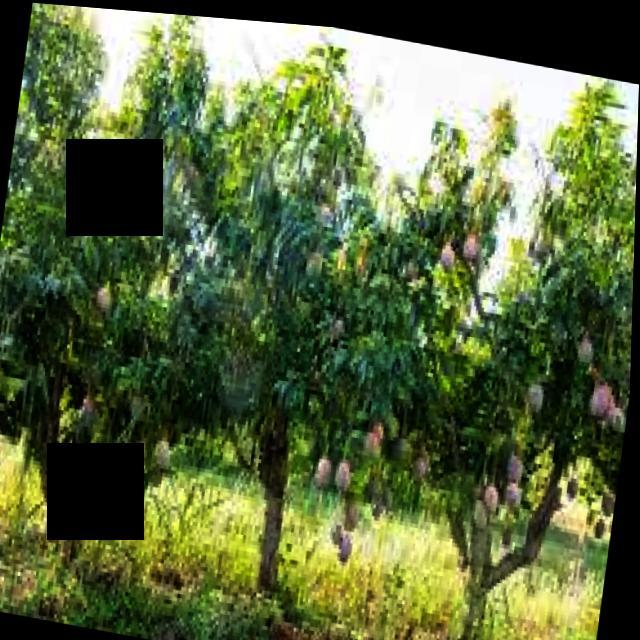Tree: (151, 33, 492, 632), (404, 86, 640, 640), (1, 27, 203, 605)
